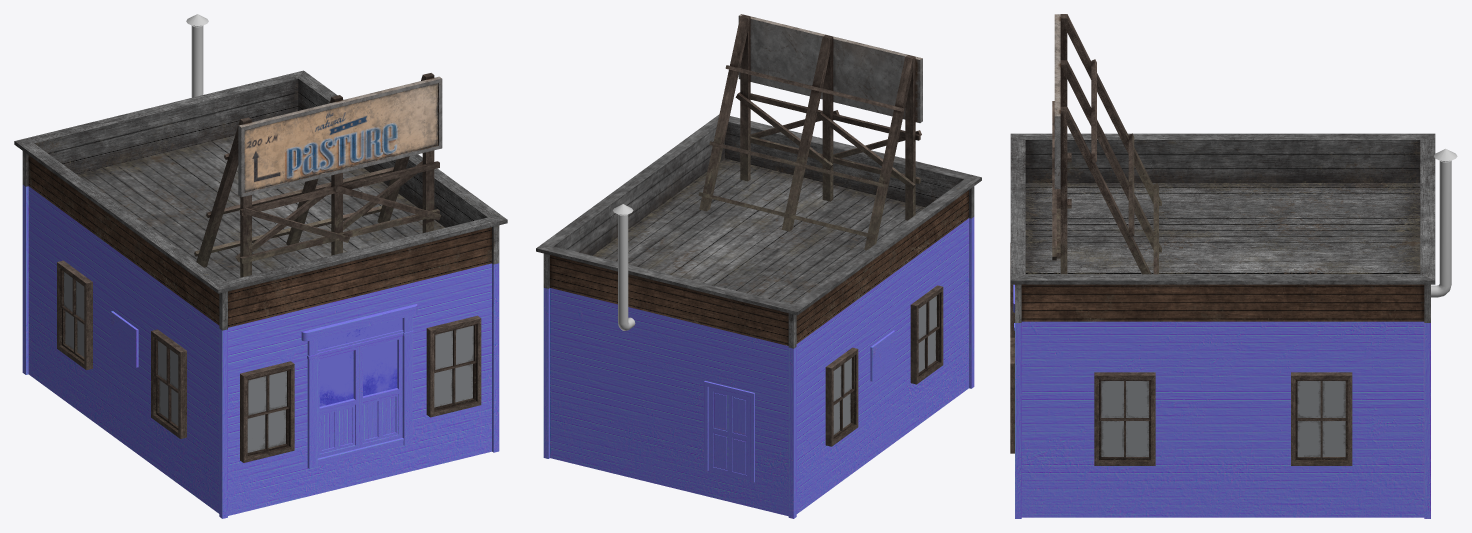
Rendered from RoofTop_Background13.fbx.
3 views of the same model, side by side, from view 1: azimuth 30°, elevation 25°; view 2: azimuth 150°, elevation 25°; view 3: azimuth 270°, elevation 25° (orthographic). The views are drawn at different scales.
Parts seen in each view (by area): view 1: t_002_b001_2_1, t_002_b003_sf_1, other_001, window_001_4, window_001_3, window_001_1, window_001_2, ad_006, chimney_1_2; view 2: t_002_b001_2_1, t_002_b003_sf_1, other_001, t002_door001, window_001_1, window_001_2, chimney_1_2, ad_006; view 3: t_002_b003_sf_1, t_002_b001_2_1, other_001, window_001_2__1_, window_001_1__1_, chimney_1_2, window_001_4.
Boxes of the visible parts, left/top/right/bottom form: t_002_b001_2_1: left=22, top=185, right=499, bottom=518; t_002_b003_sf_1: left=14, top=70, right=507, bottom=330; other_001: left=194, top=73, right=442, bottom=277; window_001_4: left=426, top=315, right=481, bottom=417; window_001_3: left=240, top=361, right=294, bottom=462; window_001_1: left=151, top=329, right=186, bottom=438; window_001_2: left=57, top=260, right=92, bottom=370; ad_006: left=111, top=311, right=138, bottom=367; chimney_1_2: left=186, top=14, right=208, bottom=97; t_002_b001_2_1: left=543, top=217, right=974, bottom=518; t_002_b003_sf_1: left=536, top=114, right=981, bottom=348; other_001: left=698, top=14, right=922, bottom=250; t002_door001: left=704, top=381, right=754, bottom=482; window_001_1: left=910, top=285, right=943, bottom=384; window_001_2: left=825, top=347, right=858, bottom=446; chimney_1_2: left=613, top=204, right=635, bottom=330; ad_006: left=870, top=330, right=895, bottom=381; t_002_b003_sf_1: left=1010, top=133, right=1435, bottom=322; t_002_b001_2_1: left=1013, top=284, right=1430, bottom=518; other_001: left=1052, top=14, right=1161, bottom=274; window_001_2__1_: left=1291, top=372, right=1352, bottom=465; window_001_1__1_: left=1094, top=372, right=1155, bottom=465; chimney_1_2: left=1431, top=148, right=1457, bottom=297; window_001_4: left=1010, top=337, right=1014, bottom=453.
Size of the model in its own units: 826 by 1011 by 1061.
